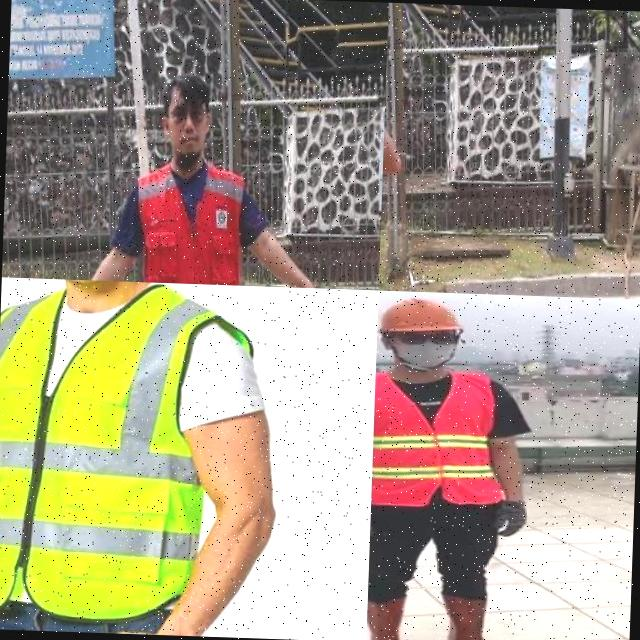boots: (438, 590, 516, 640), (365, 595, 408, 640)
helmet: (377, 291, 465, 335)
vest: (0, 278, 250, 624), (370, 369, 504, 505), (130, 160, 252, 286)
